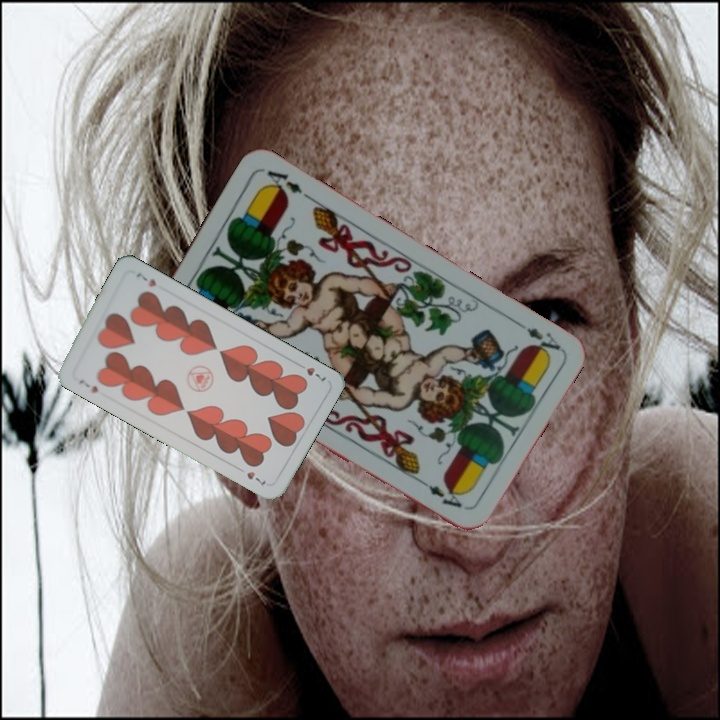EA: (510, 316, 563, 360)
H7: (292, 360, 329, 384), (75, 375, 101, 396)
